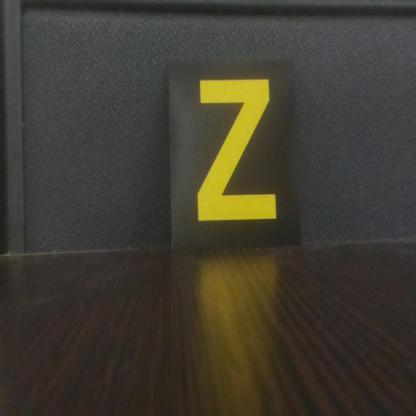z: (171, 61, 301, 245)
